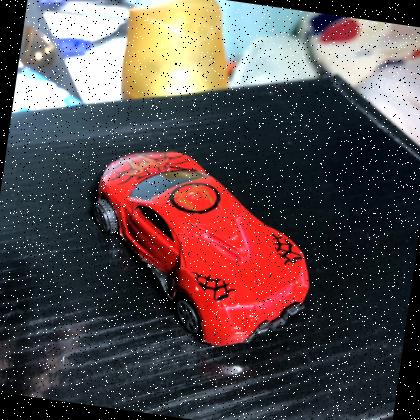Car: (92, 152, 309, 348)
